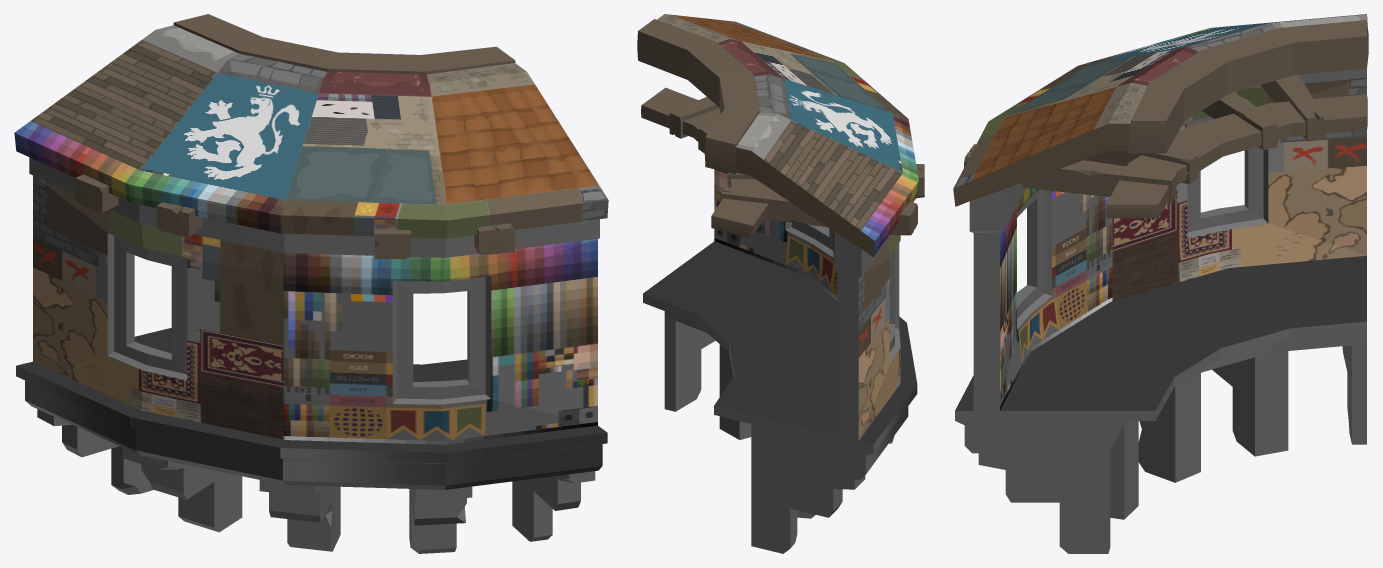
File: kingdom_SM_Bld_Castle_Hoarding_Corner_S_01.gltf
3 views of the same model, side by side, from view 1: azimuth 30°, elevation 25°; view 2: azimuth 150°, elevation 25°; view 3: azimuth 270°, elevation 25° (orthographic). The views are drawn at different scales.
Visible parts, largest first — view 1: SM_Bld_Castle_Hoarding_Corner_S_01; view 2: SM_Bld_Castle_Hoarding_Corner_S_01; view 3: SM_Bld_Castle_Hoarding_Corner_S_01.
Part boxes in pixels (bbox=[...]): SM_Bld_Castle_Hoarding_Corner_S_01: bbox=[14, 14, 608, 553]; SM_Bld_Castle_Hoarding_Corner_S_01: bbox=[637, 14, 924, 553]; SM_Bld_Castle_Hoarding_Corner_S_01: bbox=[953, 14, 1368, 553].
Bounding box in the file's own units: 4.41 × 5.09 × 4.42.
Materials: 3 (3 with a texture image).
